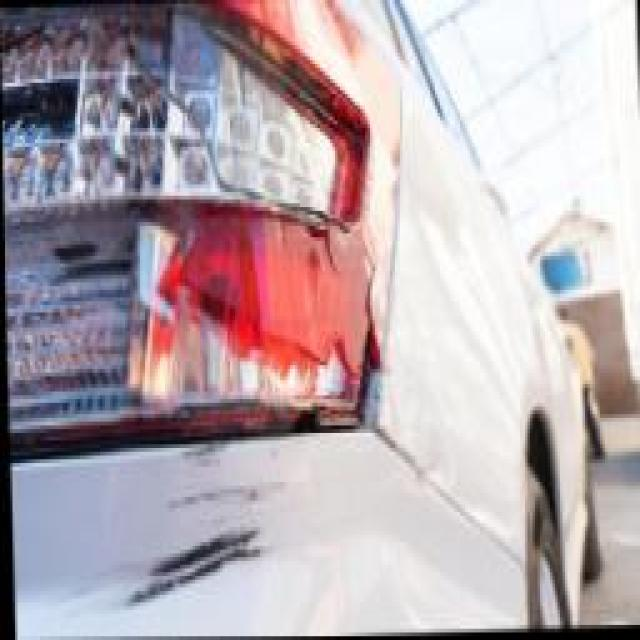Bumper: (118, 440, 323, 638)
Light: (0, 11, 396, 425)
